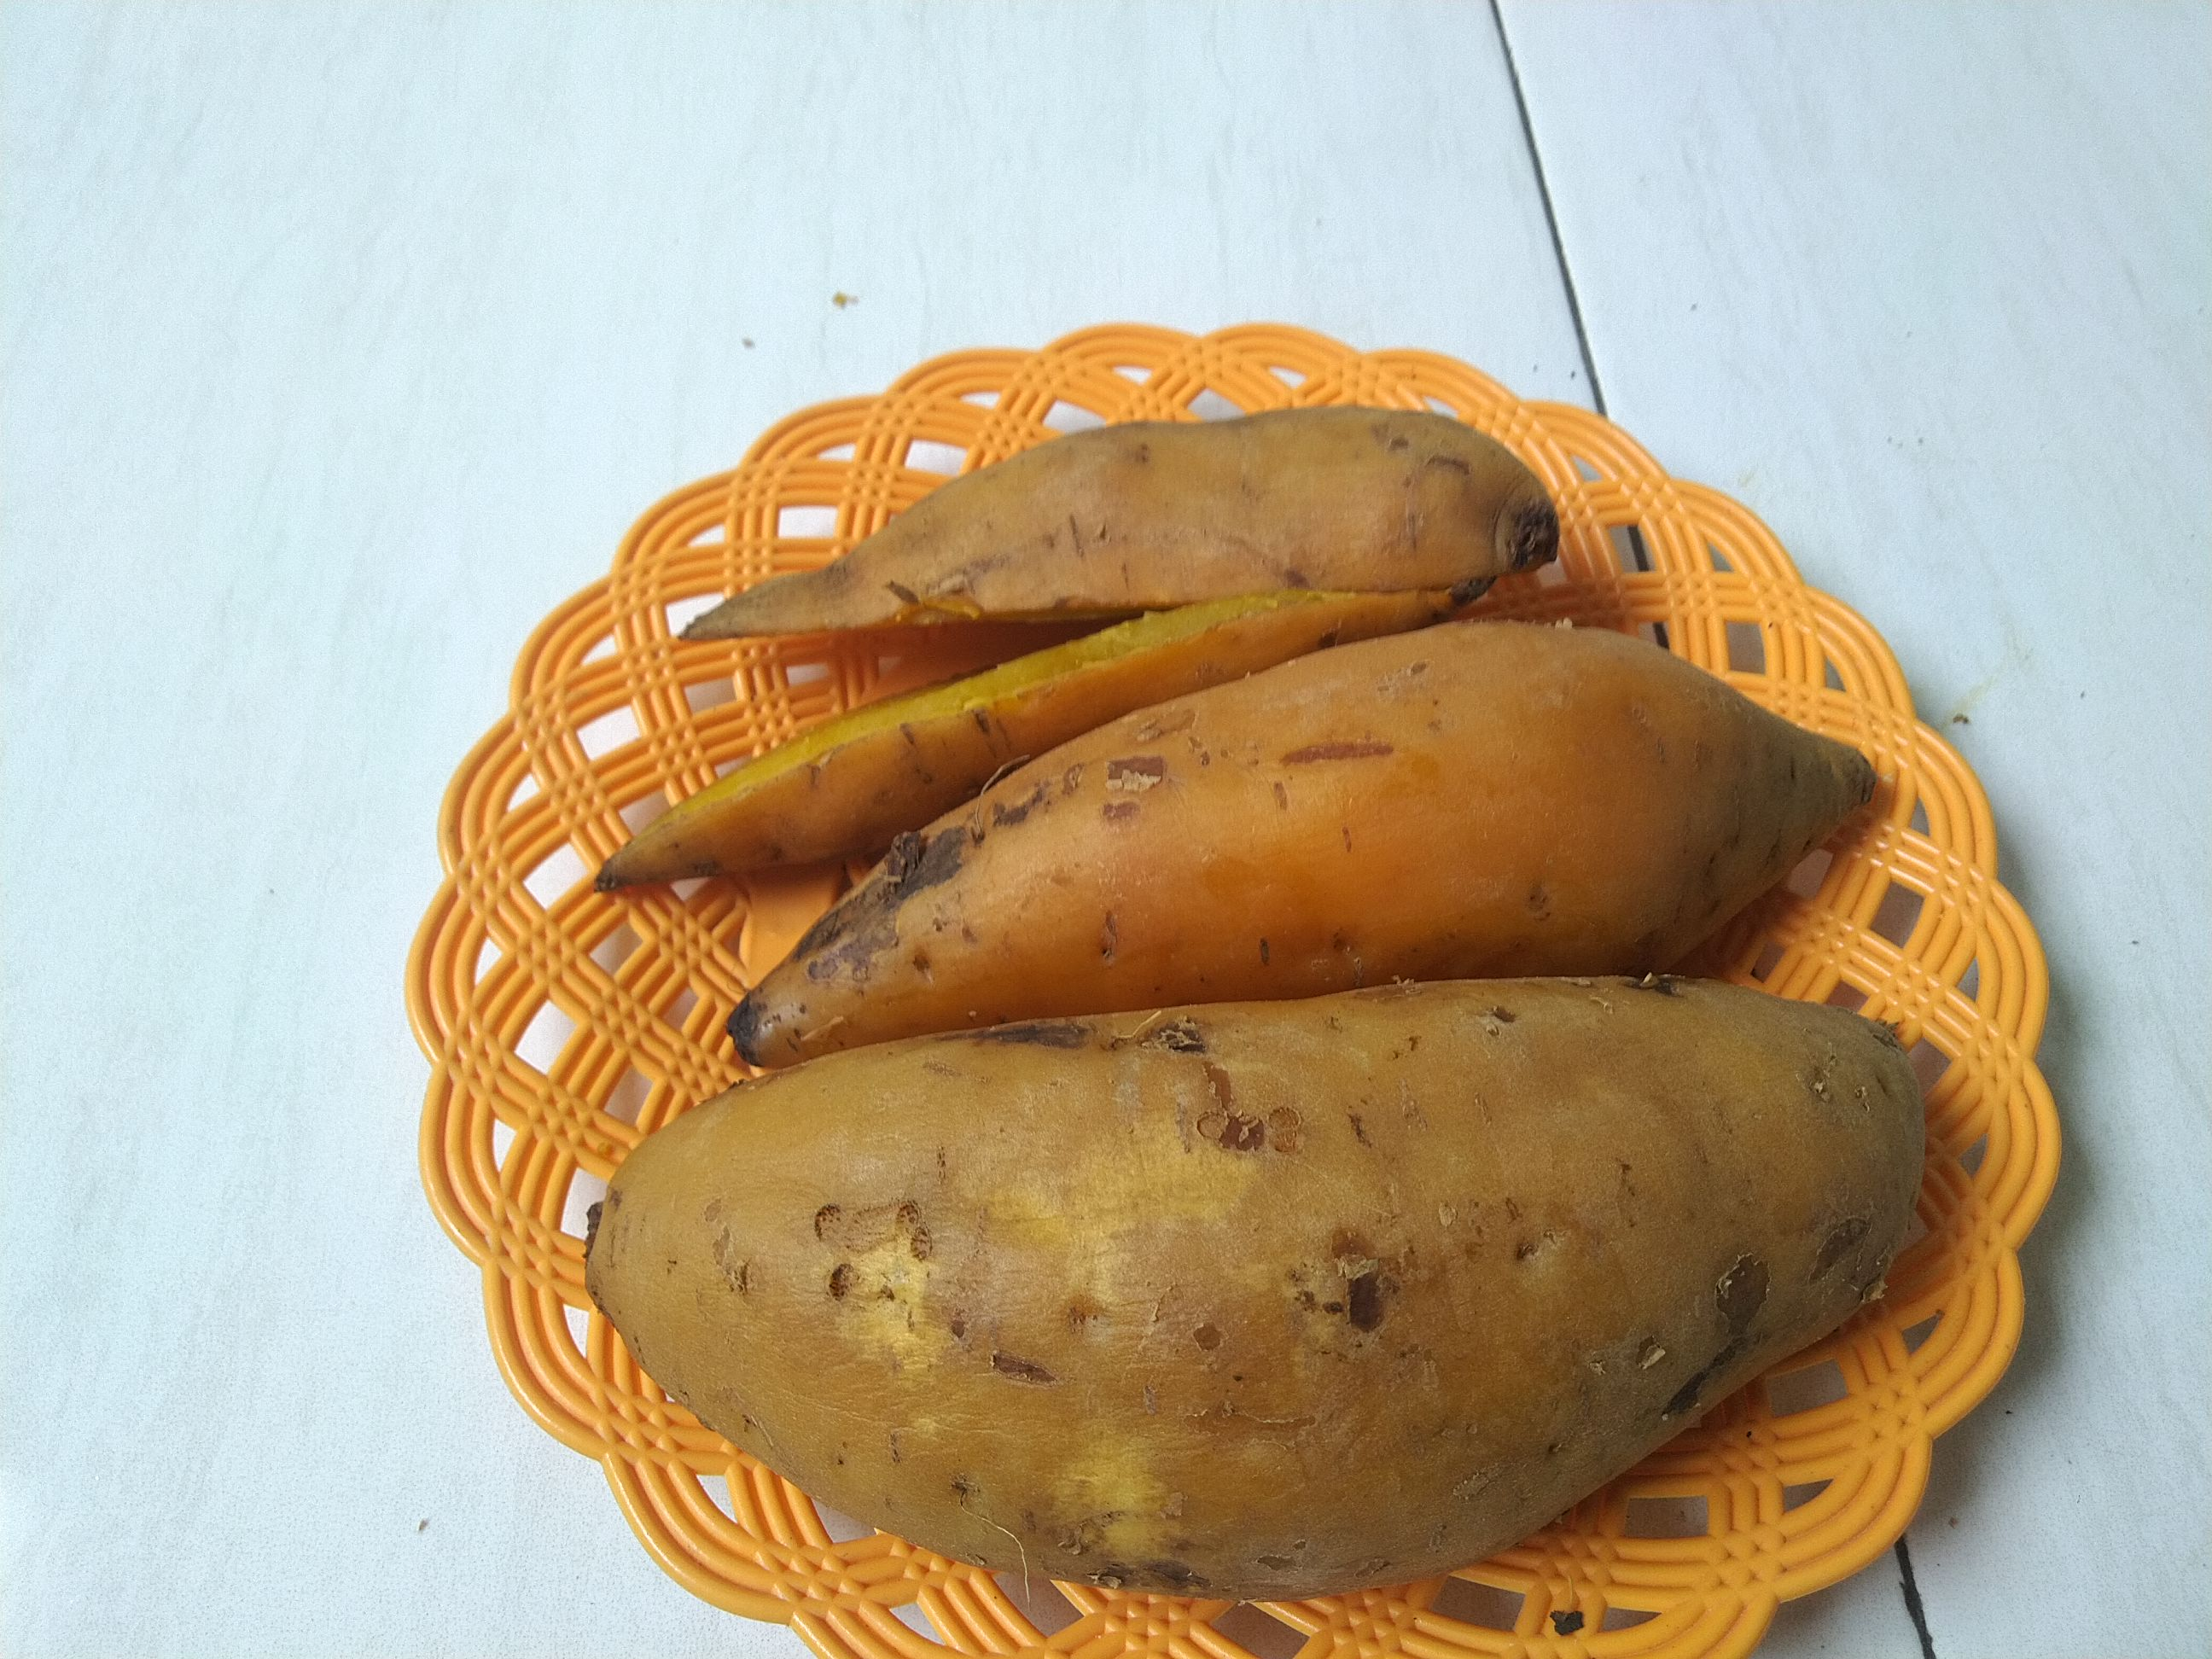ubi cilembu: (575, 972, 1942, 1598), (685, 613, 1970, 1070), (592, 566, 1496, 901), (657, 385, 1588, 645)
